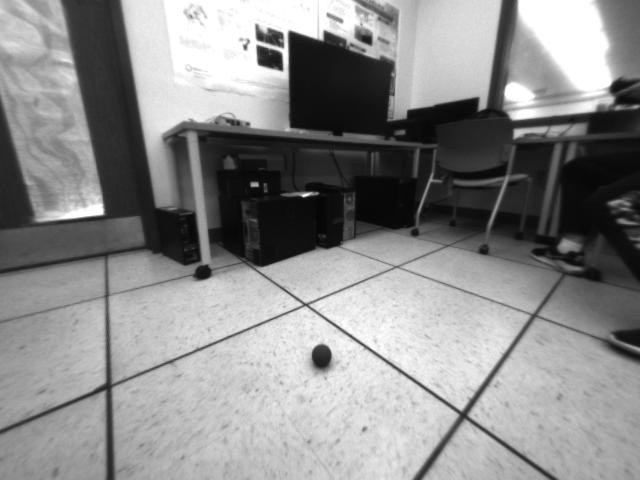dogtoy: (305, 341, 338, 370)
